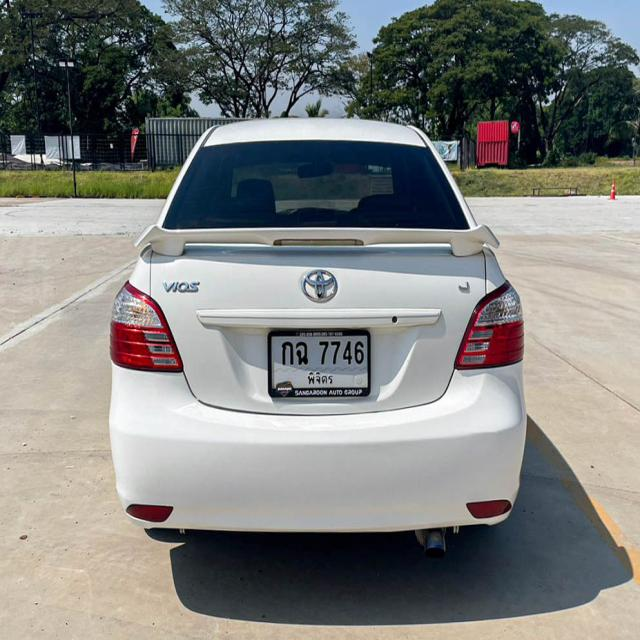license_plate: (260, 317, 378, 402)
